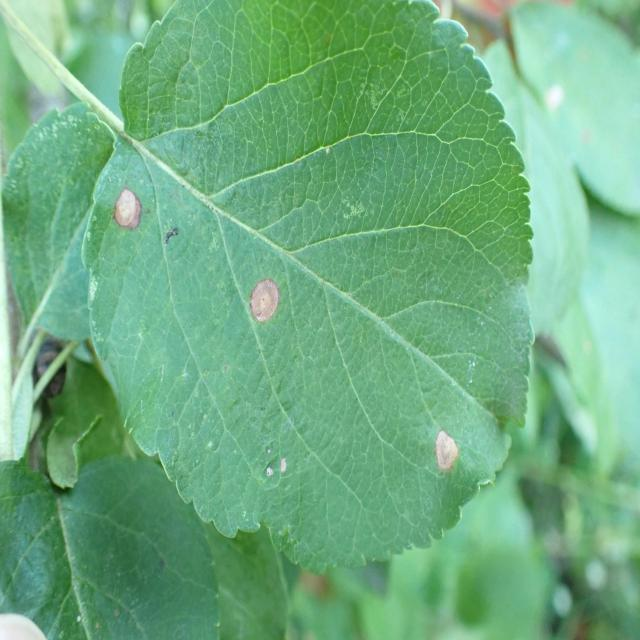Black Rot: (104, 176, 173, 267), (424, 398, 477, 500), (227, 265, 297, 334)
